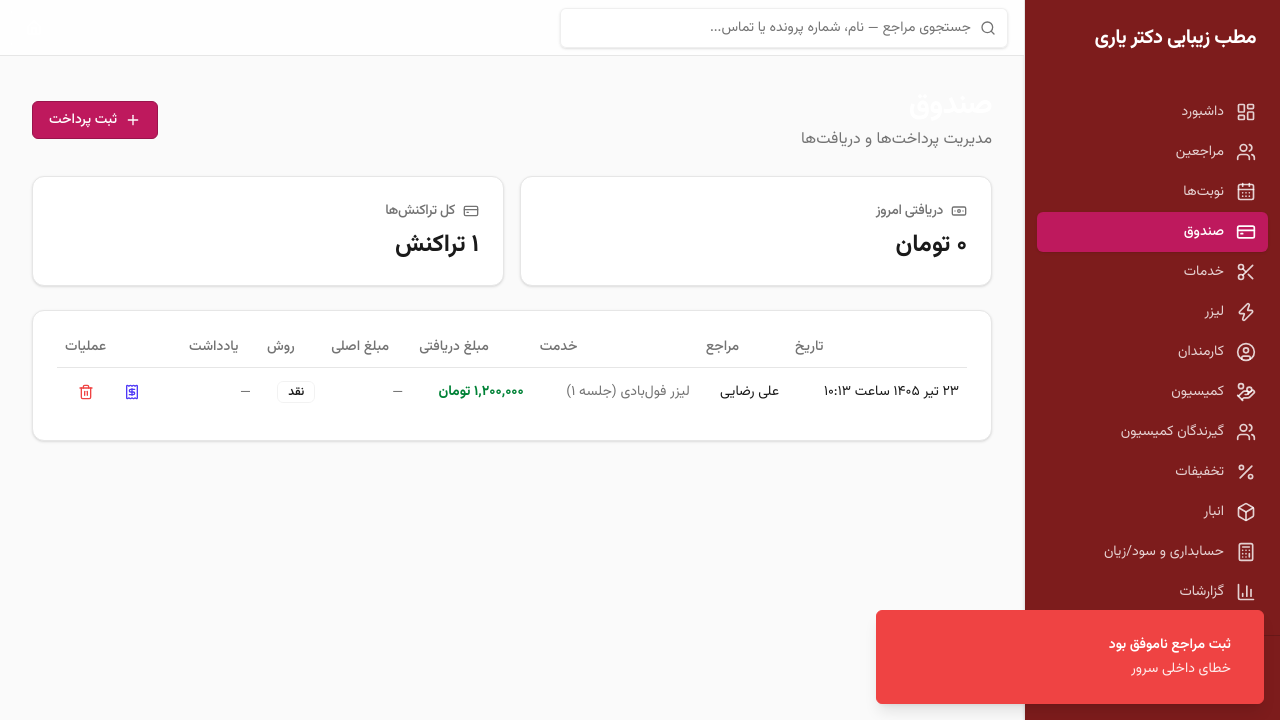
Test: create dialogs survive a failed save (500) without crashing › payment create: shows an error toast and keeps the dialog open
Click the button "ثبت پرداخت" at (95,120), box [32,101,158,139]
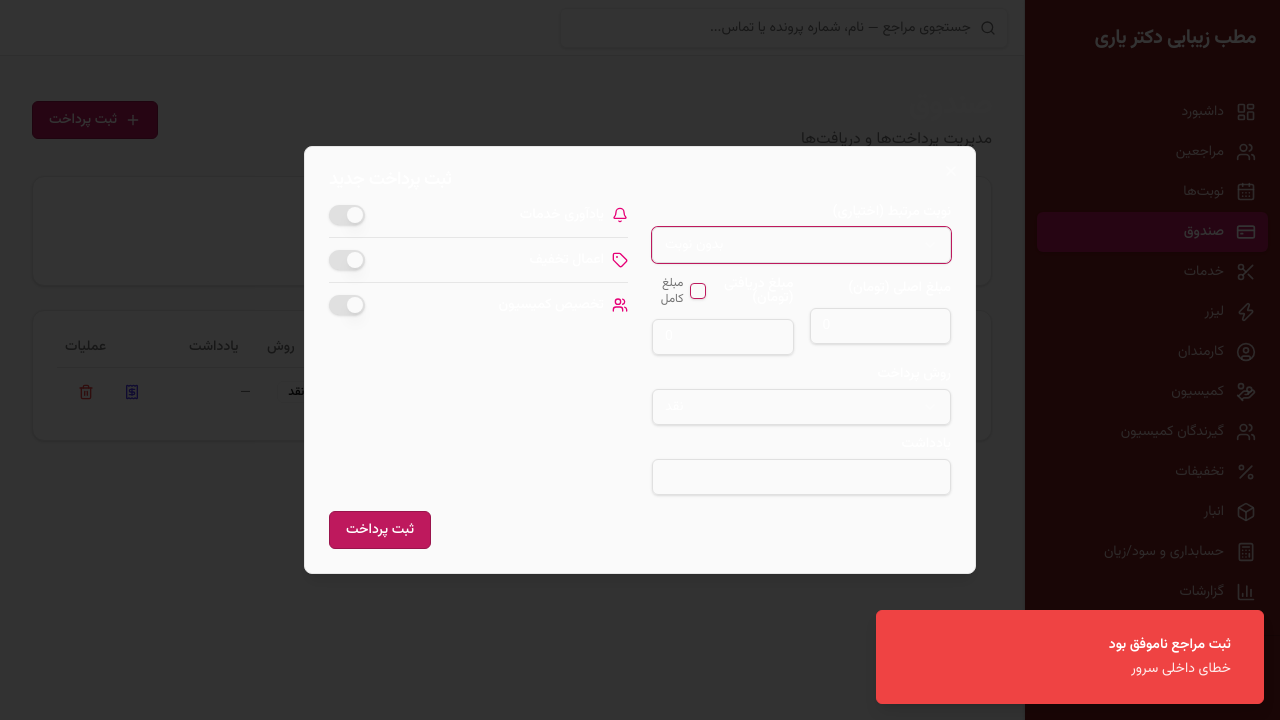
Type "500000" into the number field labelled "مبلغ اصلی (تومان)" at (880,326), box [810,308,951,344]
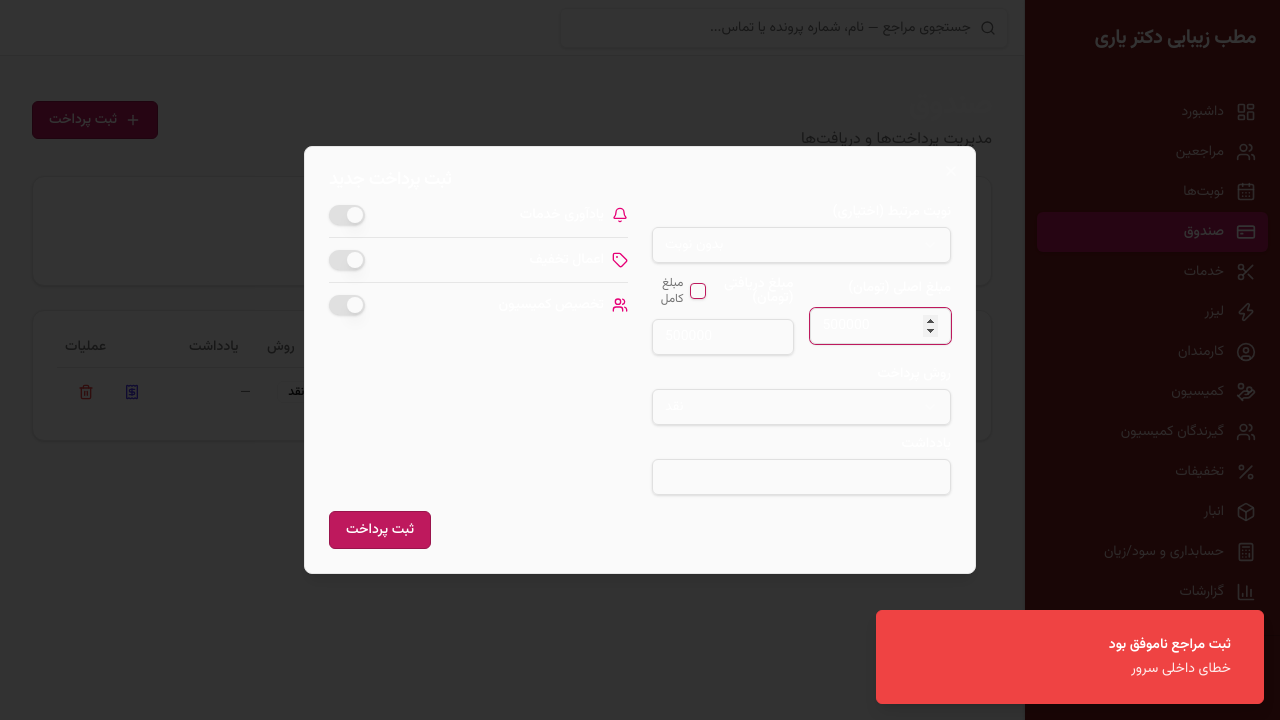
Click the button "ثبت پرداخت" at (380,530), box [329,511,431,549]
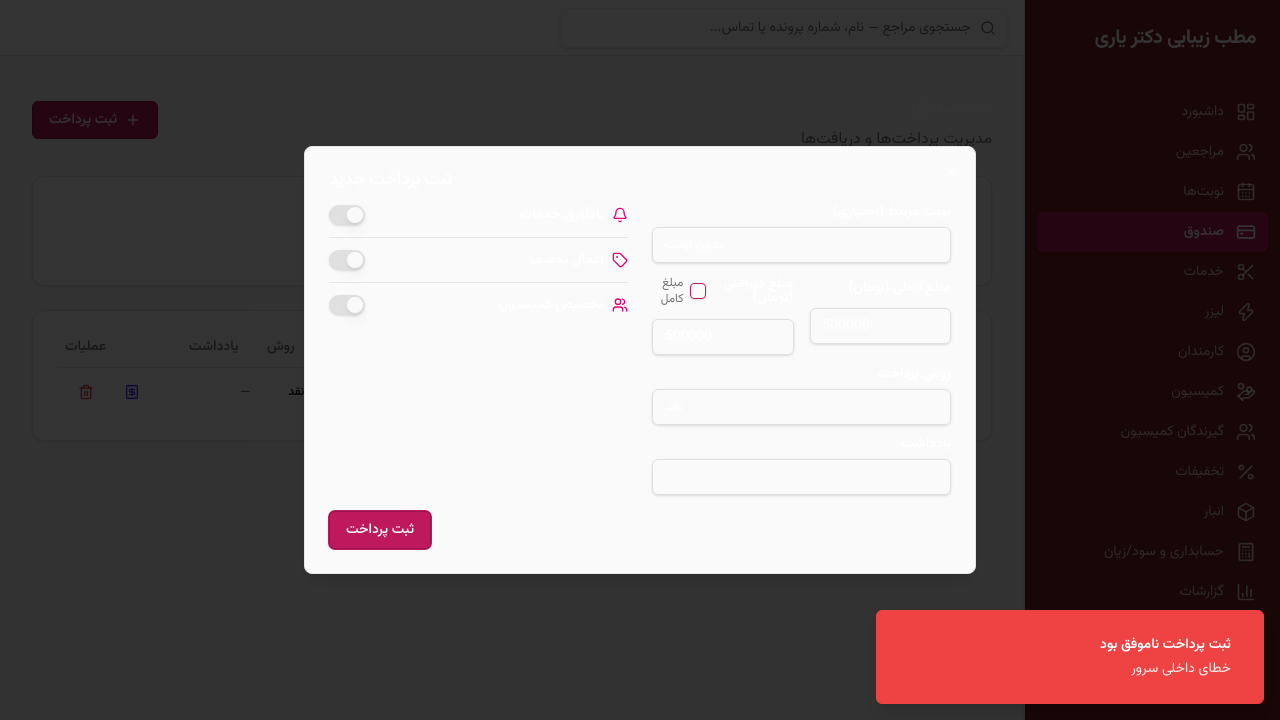
Now the dialog is shown, box [304,146,976,574]
Now the text "ثبت پرداخت ناموفق بود" is shown, box [1100,635,1231,655]
